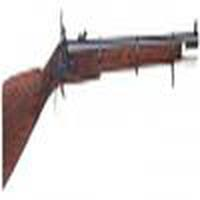gun: (4, 34, 200, 192)
